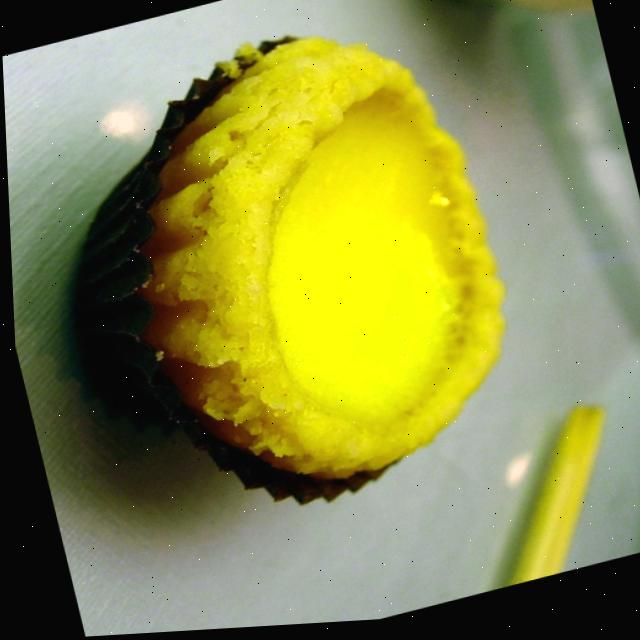炸货点心: (4, 0, 552, 587)
蛋糕甜品: (4, 0, 552, 587)
